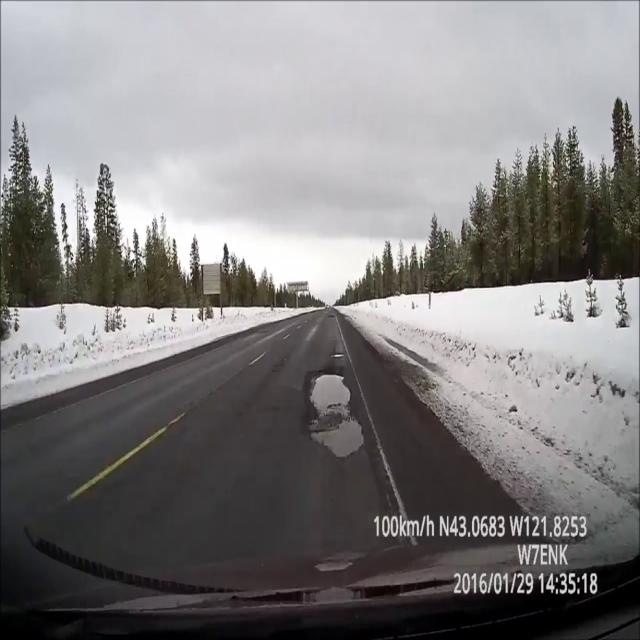Pothole: (302, 372, 366, 457), (331, 352, 344, 358), (327, 314, 336, 318)
